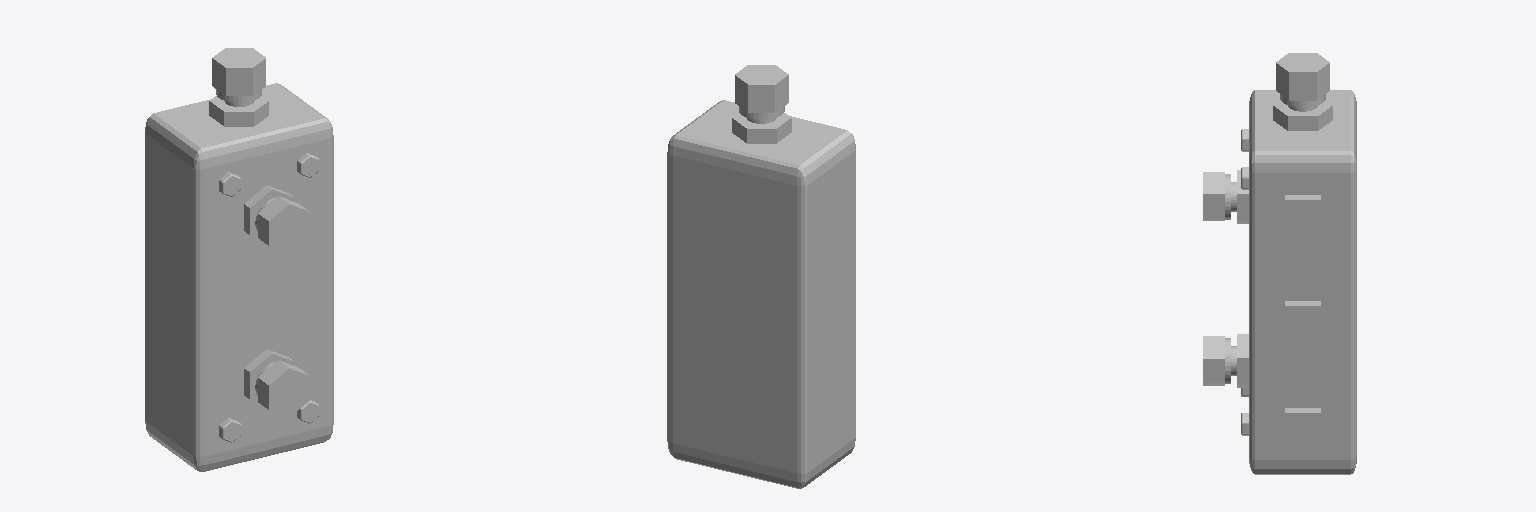
Rendered from boitier_hydraulique_t2.obj.
3 renders of one model, left to right at view 1: azimuth 30°, elevation 25°; view 2: azimuth 150°, elevation 25°; view 3: azimuth 270°, elevation 25°, orthographic.
Parts seen in each view (by area): view 1: boitier_hydraulique.02_Cube.020; view 2: boitier_hydraulique.02_Cube.020; view 3: boitier_hydraulique.02_Cube.020.
Boxes of the visible parts, x1=… form: boitier_hydraulique.02_Cube.020: x1=145, y1=48, x2=333, y2=471; boitier_hydraulique.02_Cube.020: x1=667, y1=65, x2=855, y2=488; boitier_hydraulique.02_Cube.020: x1=1203, y1=53, x2=1356, y2=474.
Size of the model in its own units: 6.79 by 16.49 by 6.04.